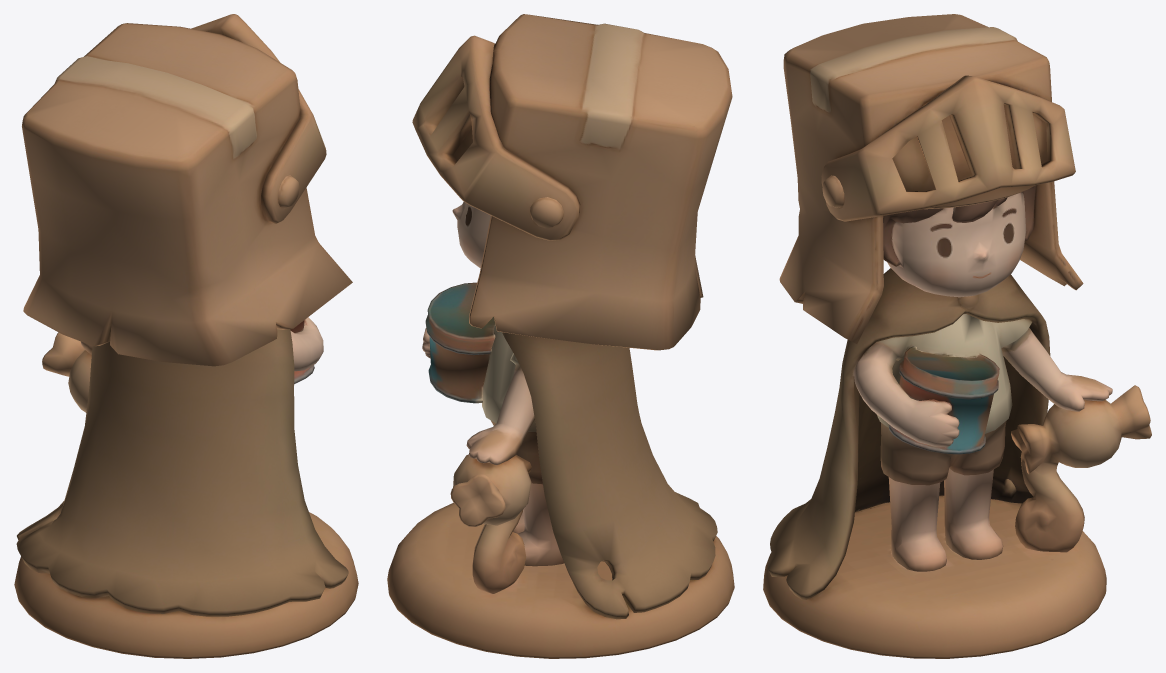
File: figurine-warm-palm-wrapper.glb
3 views of the same model, side by side, from view 1: azimuth 30°, elevation 25°; view 2: azimuth 150°, elevation 25°; view 3: azimuth 270°, elevation 25° (orthographic).
Visible parts, largest first — view 1: tripo_node_6dec8d97-41ea-45f3-afaa-1dcf22095d18; view 2: tripo_node_6dec8d97-41ea-45f3-afaa-1dcf22095d18; view 3: tripo_node_6dec8d97-41ea-45f3-afaa-1dcf22095d18.
Boxes of the visible parts, box(x1,y1,x2,y2) form: tripo_node_6dec8d97-41ea-45f3-afaa-1dcf22095d18: box(14, 14, 358, 658); tripo_node_6dec8d97-41ea-45f3-afaa-1dcf22095d18: box(387, 14, 734, 658); tripo_node_6dec8d97-41ea-45f3-afaa-1dcf22095d18: box(763, 14, 1151, 658).
Size of the model in its own units: 0.5833 by 0.9995 by 0.6493.
Materials: 1 (1 with a texture image).
